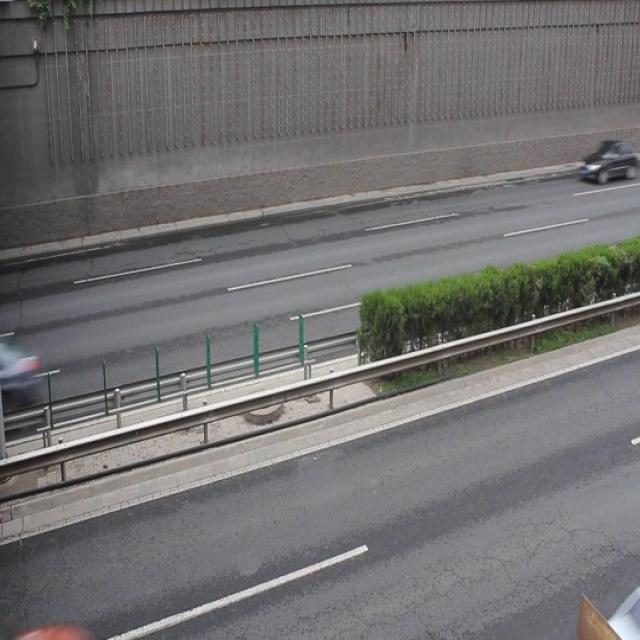car: (579, 135, 632, 183)
